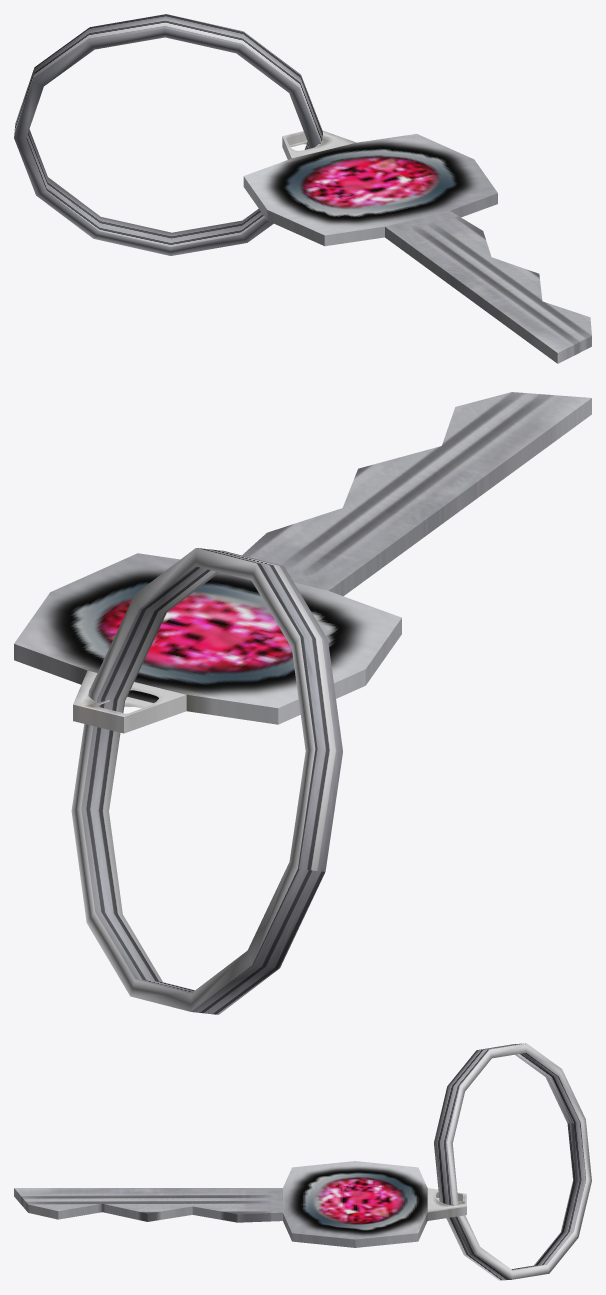
File: key_j_tourmaline.fbx
3 renders of one model, top to bottom at view 1: azimuth 30°, elevation 25°; view 2: azimuth 150°, elevation 25°; view 3: azimuth 270°, elevation 25°, orthographic. The views are drawn at different scales.
Parts seen in each view (by area): view 1: key_j_tour; view 2: key_j_tour; view 3: key_j_tour.
Boxes of the visible parts, x1,y1,x2,y2 form: key_j_tour: (14, 14, 591, 363); key_j_tour: (14, 392, 591, 1014); key_j_tour: (14, 1043, 591, 1280).
Bounding box in the file's own units: 10.09 × 8.2 × 20.27.
1 material, 1 textured.
